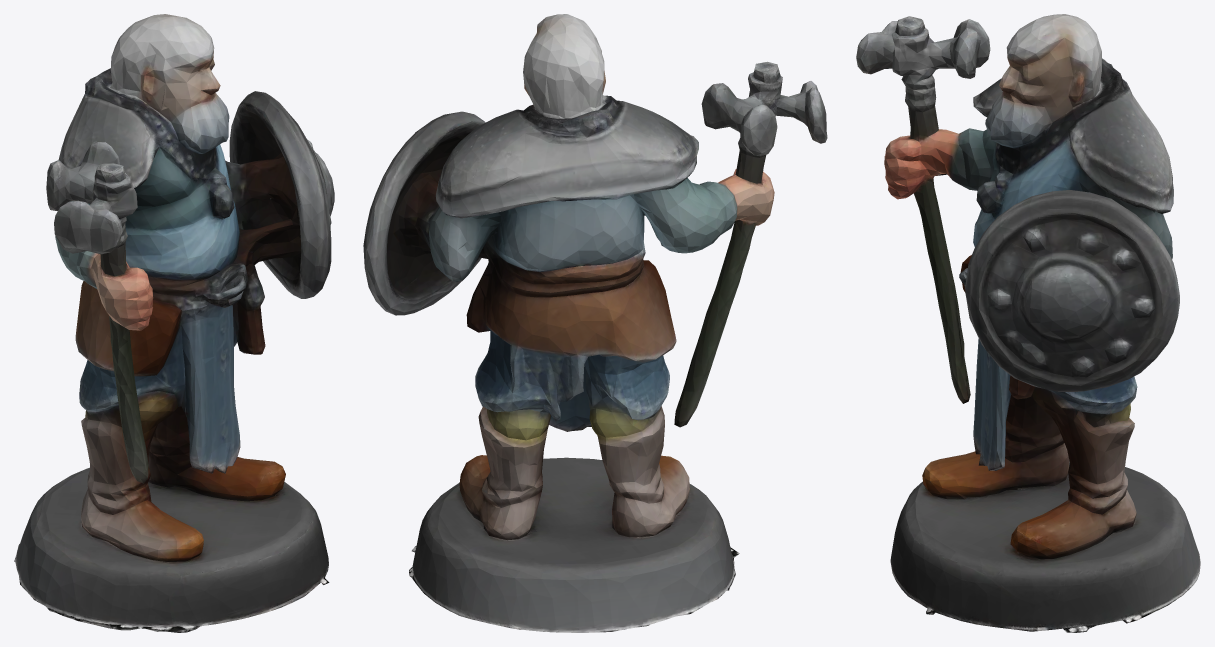
The model's file is stig.glb.
3 views of the same model, side by side, from view 1: azimuth 30°, elevation 25°; view 2: azimuth 150°, elevation 25°; view 3: azimuth 270°, elevation 25° (orthographic).
Parts seen in each view (by area): view 1: geometry_0; view 2: geometry_0; view 3: geometry_0.
Part boxes in pixels (box(x1,y1,x2,y2)): geometry_0: box(14, 14, 334, 632); geometry_0: box(363, 14, 827, 632); geometry_0: box(856, 14, 1200, 632).
Size of the model in its own units: 0.4522 by 0.6739 by 0.3831.
Materials: 1 (1 with a texture image).
